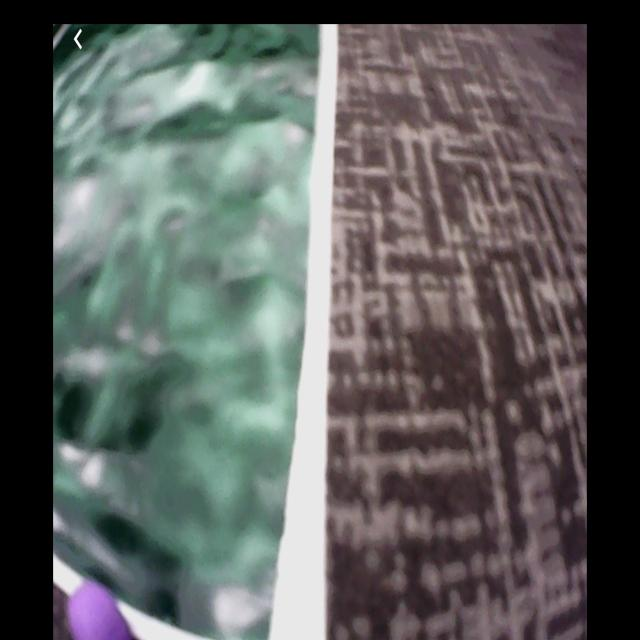ball: (65, 578, 134, 639)
